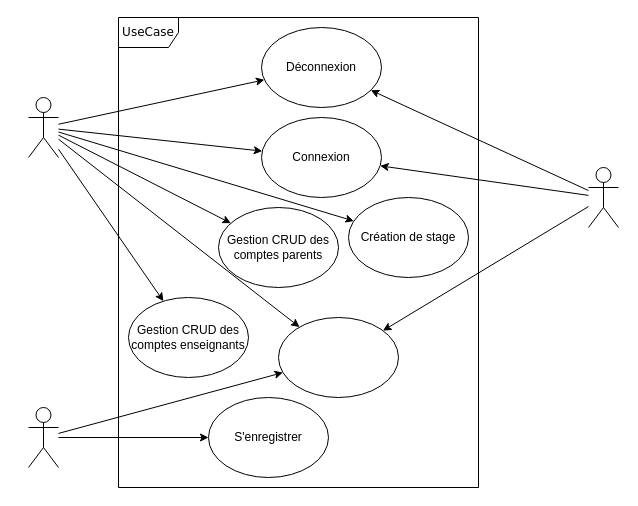
This 638x506 diagram has some shape labels left out. The shapes that lost their labels are listed below. From the top down, each one's centre as x and y in pixels, then its label:
At pixel 43 127: "Admin".
At pixel 603 197: "Parent".
At pixel 338 357: "Consultation des stages".
At pixel 43 437: "Utilisateur".
